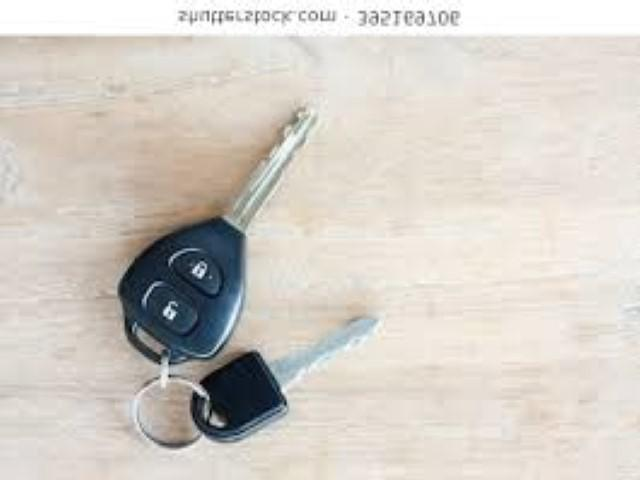key: (118, 103, 318, 318)
